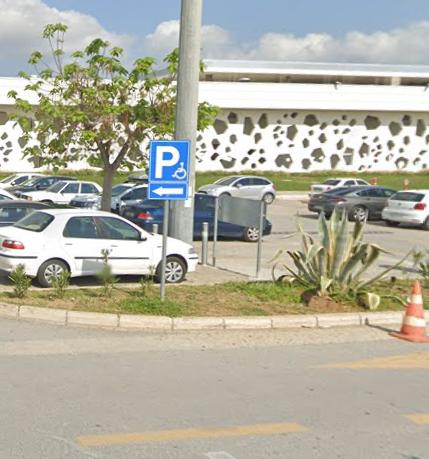disabledpark: (151, 142, 187, 181)
